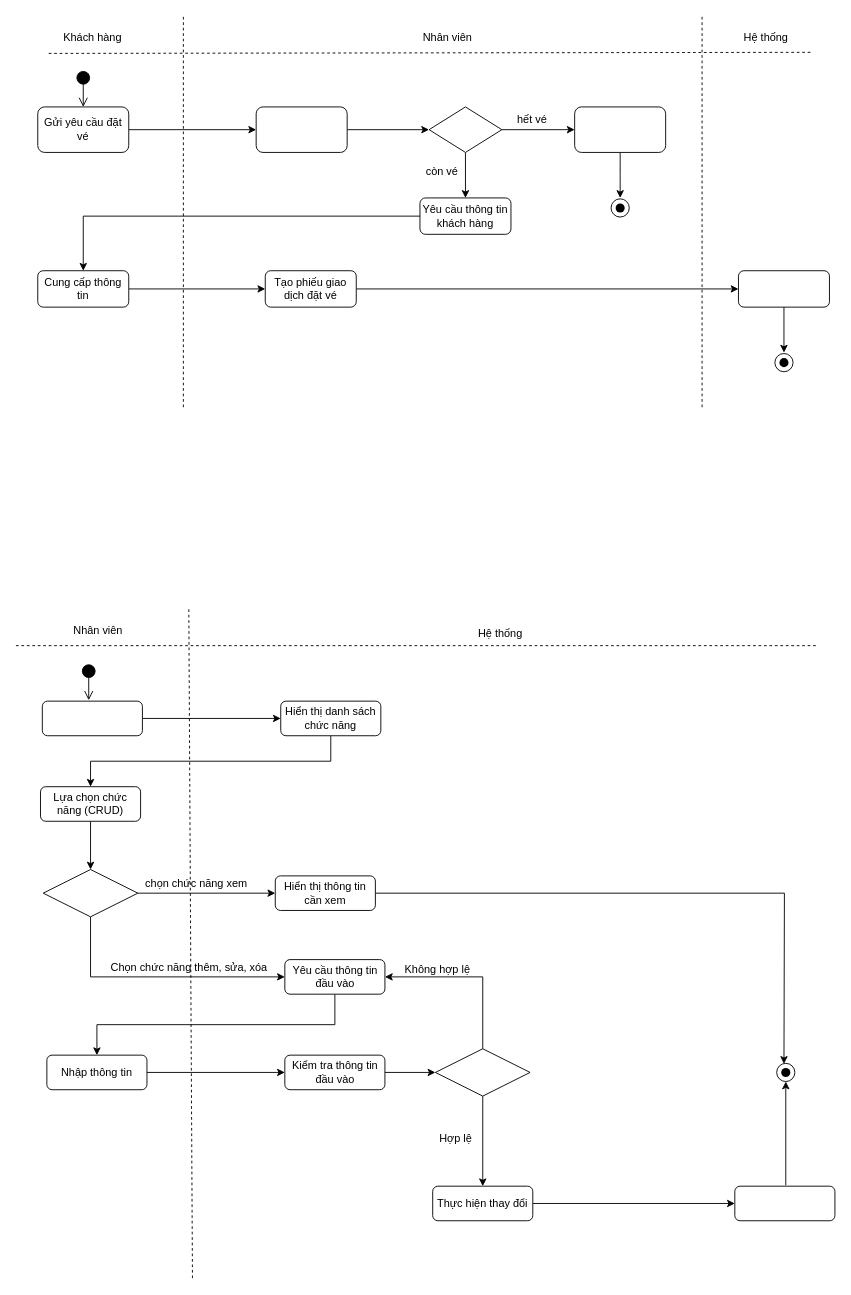
This 851x1295 diagram has some shape labels left out. The shapes that lost their labels are listed below. From the top down, each one's box as (x1, y1, x2, y2) in pixels, then its label:
(255, 106, 347, 152): Kiểm tra còn vé hay không
(574, 106, 666, 152): Thông báo hết vé
(738, 270, 829, 307): Gửi email xác nhận đặt chỗ
(41, 700, 142, 736): Yêu cầu chức năng quản lý chuyến bay
(734, 1185, 835, 1221): Trả về thông báo
